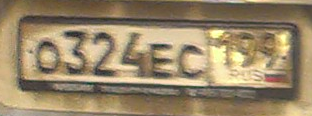character: (91, 30, 118, 77), (147, 39, 176, 80), (63, 28, 88, 75), (122, 33, 146, 80), (34, 36, 61, 76), (177, 40, 204, 80), (258, 29, 281, 72), (213, 28, 236, 68), (237, 29, 258, 71)
